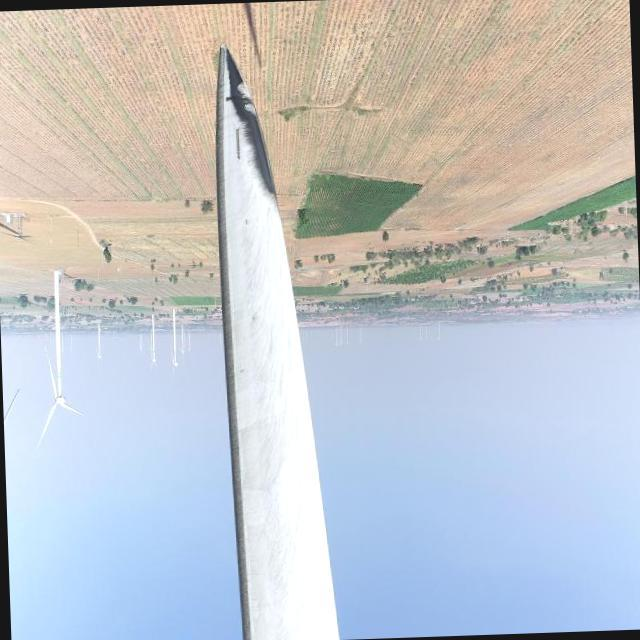Dirt: (220, 45, 335, 640)
Oil LEAKAGE: (223, 48, 275, 194)
Pin Hole: (240, 214, 251, 227), (250, 312, 261, 325), (224, 92, 234, 106)
